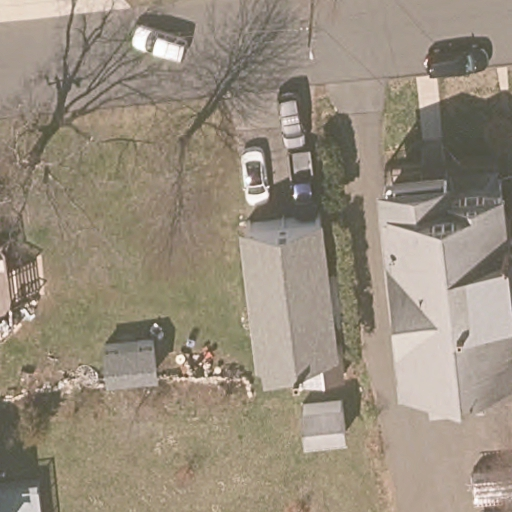DT: (305, 1, 319, 62)
